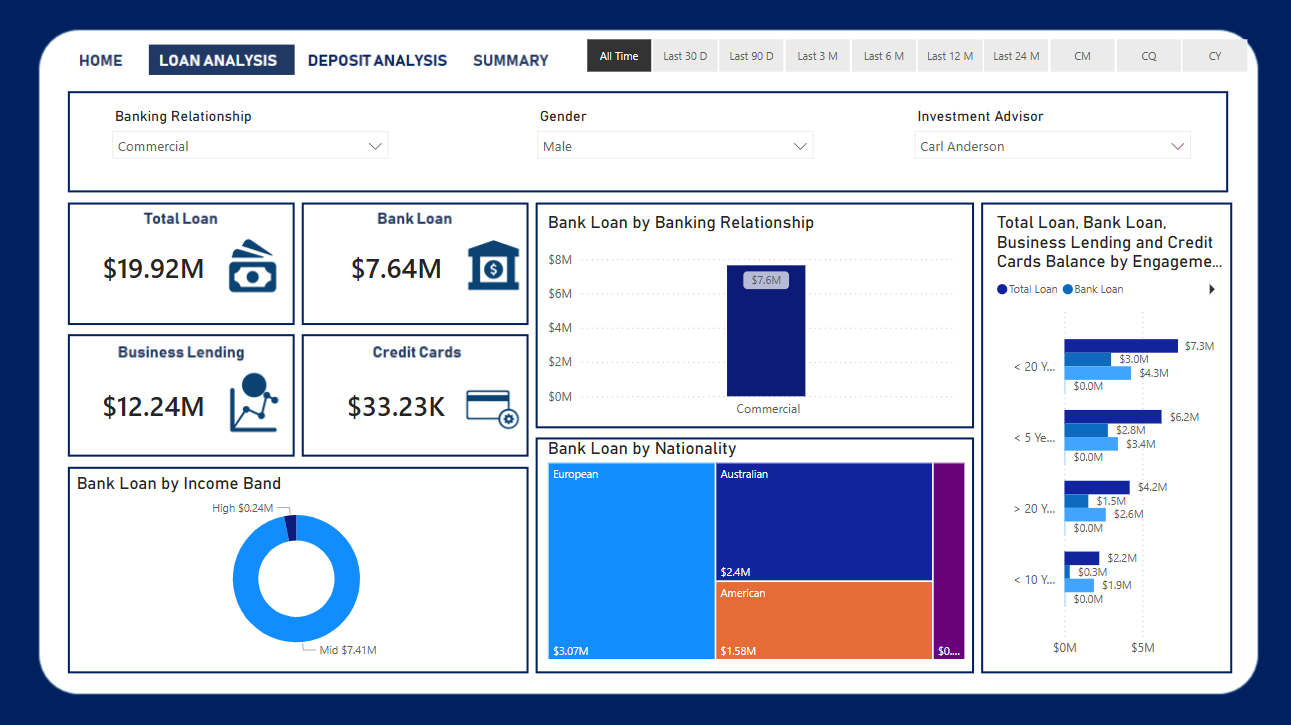

The page's visual inventory and layout, read from the dashboard file:
{"tool":"powerbi","page":{"name":"Loan Analysis","canvas":[1280,720],"ordinal":1},"visuals":[{"type":"card","fields":{"Values":["DAX Measures.Total Loan"]},"box":[72.7,224,161.8,90.3],"z":1000},{"type":"card","fields":{"Values":["DAX Measures.Bank Loan"]},"box":[307.2,224,172.4,89.1],"z":2000},{"type":"card","fields":{"Values":["DAX Measures.Credit Cards"]},"box":[307.2,360,171.2,89.1],"z":3000},{"type":"card","fields":{"Values":["DAX Measures.Business Lending"]},"box":[72.7,360,161.8,89.1],"z":4000},{"type":"slicer","fields":{"Values":["Banking Relationship.Banking Relationship"]},"box":[102.3,103.4,292.9,75.7],"z":5000},{"type":"slicer","fields":{"Values":["Gender.Gender"]},"box":[522.7,103.4,292.9,75.7],"z":6000},{"type":"slicer","fields":{"Values":["Investment Advisor.Investment Advisor"]},"box":[895,103.4,292.9,75.7],"z":7000},{"type":"donutChart","fields":{"Category":["Clients - Banking.Income Band"],"Y":["DAX Measures.Bank Loan"]},"box":[73.3,470.9,444.2,189.5],"z":8000},{"type":"clusteredBarChart","fields":{"Category":["Clients - Banking.Engagement Timeframe"],"Y":["DAX Measures.Total Loan","DAX Measures.Bank Loan","DAX Measures.Business Lending","DAX Measures.Credit Cards"]},"box":[981.5,212.2,236.9,447.9],"z":9000},{"type":"treemap","fields":{"Group":["Clients - Banking.Nationality"],"Values":["DAX Measures.Bank Loan"]},"box":[538.2,436.2,422.1,224],"z":10000},{"type":"lineClusteredColumnComboChart","fields":{"Y":["DAX Measures.Bank Loan"],"Category":["Banking Relationship.Banking Relationship"]},"box":[538.2,212.2,411.6,212.2],"z":11000},{"type":"slicer","fields":{"Values":["Period.Name"]},"box":[555.2,34.6,702.1,46.6],"z":12000},{"type":"actionButton","box":[72.8,44.2,58.5,31],"z":13000},{"type":"actionButton","box":[306.9,44.7,119.4,31],"z":14000},{"type":"actionButton","box":[471.6,44.2,83.6,31],"z":15000}]}

Visuals, with their boxes in screenshot pixels (x1, y1, x2, y2), scaled from the page's 1280x720 canvas onto the 1291x725 screenshot:
card - DAX Measures.Total Loan: (left=73, top=226, right=237, bottom=316)
card - DAX Measures.Bank Loan: (left=310, top=226, right=484, bottom=315)
card - DAX Measures.Credit Cards: (left=310, top=362, right=483, bottom=452)
card - DAX Measures.Business Lending: (left=73, top=362, right=237, bottom=452)
slicer - Banking Relationship.Banking Relationship: (left=103, top=104, right=399, bottom=180)
slicer - Gender.Gender: (left=527, top=104, right=823, bottom=180)
slicer - Investment Advisor.Investment Advisor: (left=903, top=104, right=1198, bottom=180)
donutChart - Clients - Banking.Income Band x DAX Measures.Bank Loan: (left=74, top=474, right=522, bottom=665)
clusteredBarChart - Clients - Banking.Engagement Timeframe x DAX Measures.Total Loan: (left=990, top=214, right=1229, bottom=665)
treemap - Clients - Banking.Nationality x DAX Measures.Bank Loan: (left=543, top=439, right=969, bottom=665)
lineClusteredColumnComboChart - DAX Measures.Bank Loan x Banking Relationship.Banking Relationship: (left=543, top=214, right=958, bottom=427)
slicer - Period.Name: (left=560, top=35, right=1268, bottom=82)
actionButton: (left=73, top=45, right=132, bottom=76)
actionButton: (left=310, top=45, right=430, bottom=76)
actionButton: (left=476, top=45, right=560, bottom=76)
